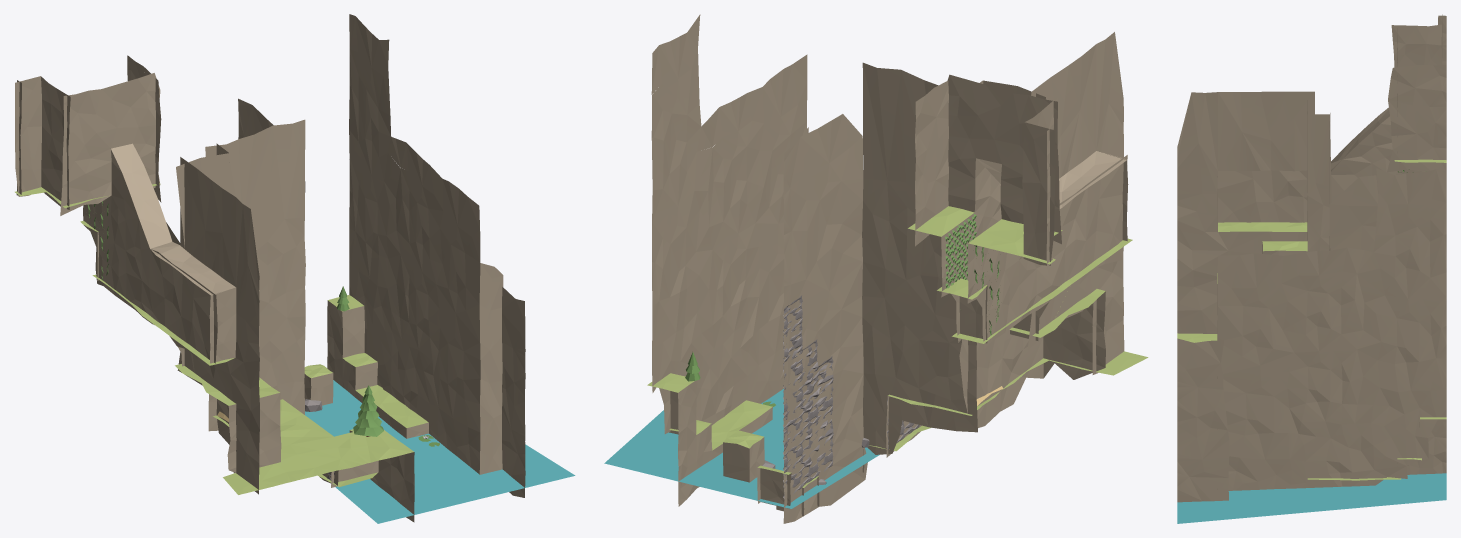
3 renders of one model, left to right at view 1: azimuth 30°, elevation 25°; view 2: azimuth 150°, elevation 25°; view 3: azimuth 270°, elevation 25°, orthographic. The views are drawn at different scales.
Parts seen in each view (by area): view 1: 7; view 2: 7; view 3: 7.
Boxes of the visible parts, x1=… form: 7: x1=15, y1=14, x2=575, y2=523; 7: x1=604, y1=14, x2=1148, y2=523; 7: x1=1177, y1=14, x2=1446, y2=523.
Bounding box in the file's own units: 18.48 × 17.22 × 12.
1 material, 1 textured.
